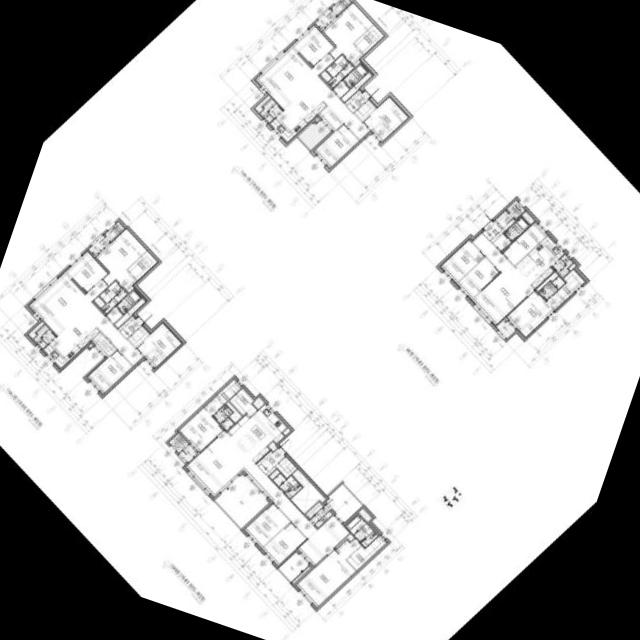background: (0, 0, 640, 640)
space_balconi: (214, 473, 268, 528), (325, 484, 361, 521), (278, 551, 307, 581), (297, 121, 328, 149), (304, 501, 331, 527), (32, 324, 55, 348), (259, 98, 281, 122), (551, 254, 572, 277), (314, 9, 335, 29), (87, 235, 108, 255), (495, 318, 514, 338), (178, 444, 196, 462)
space_bedroom: (295, 538, 360, 606), (321, 2, 372, 64), (95, 228, 145, 290), (506, 290, 563, 336), (178, 395, 223, 451), (362, 96, 408, 141), (135, 322, 181, 367), (243, 502, 289, 547), (313, 123, 358, 167), (87, 349, 132, 393), (261, 521, 305, 564), (440, 239, 483, 282), (291, 25, 333, 66), (456, 257, 498, 298), (65, 251, 106, 292)
space_dressroom: (346, 535, 385, 570), (353, 24, 383, 54), (126, 250, 156, 279), (556, 269, 583, 300), (216, 379, 240, 403)
space_front: (256, 446, 285, 475), (117, 315, 141, 339), (344, 89, 367, 113), (481, 220, 503, 242)
space_kitchen: (226, 403, 286, 462), (269, 86, 325, 141), (42, 313, 99, 367), (514, 236, 563, 288)
space_living_room: (185, 430, 348, 565), (28, 272, 142, 366), (255, 46, 369, 140), (471, 232, 533, 324)
space_other: (501, 222, 546, 265), (290, 469, 324, 513), (340, 72, 371, 101), (113, 298, 144, 327), (228, 388, 256, 416), (317, 105, 342, 131), (90, 332, 115, 357), (127, 325, 149, 346), (274, 456, 296, 477), (354, 99, 375, 120), (535, 271, 557, 291), (494, 210, 514, 230), (225, 401, 241, 422), (492, 233, 510, 251), (291, 566, 309, 583), (331, 80, 348, 97), (105, 306, 122, 323), (253, 94, 269, 112), (27, 321, 43, 338), (335, 533, 353, 547), (357, 508, 370, 521), (521, 211, 533, 224), (252, 397, 263, 408), (268, 469, 278, 479), (267, 441, 276, 451), (282, 427, 289, 435), (352, 59, 360, 66), (567, 263, 575, 270), (126, 285, 133, 292), (314, 117, 318, 121), (88, 343, 91, 347)
space_outdoor_room: (167, 432, 187, 452), (103, 221, 123, 240), (506, 199, 524, 218), (330, 0, 350, 14)
space_toilet: (319, 54, 353, 87), (93, 280, 126, 313), (345, 514, 377, 547), (272, 473, 301, 498), (503, 216, 528, 241), (114, 289, 140, 313), (538, 276, 564, 300), (342, 63, 367, 87), (212, 404, 233, 430)
